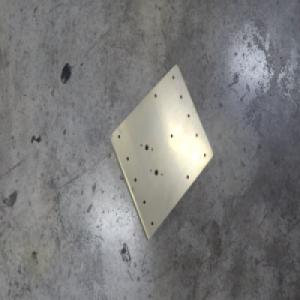MetalSheet: (107, 63, 214, 244)
